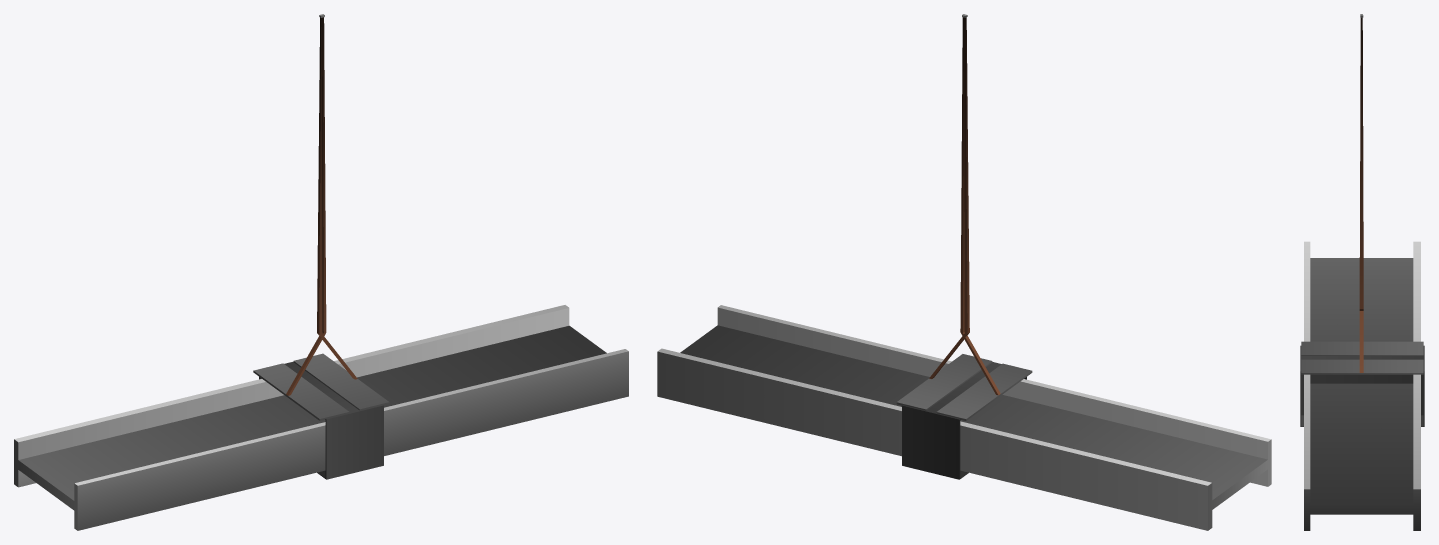
Rendered from MetalGrider.fbx.
3 views of the same model, side by side, from view 1: azimuth 30°, elevation 25°; view 2: azimuth 150°, elevation 25°; view 3: azimuth 270°, elevation 25° (orthographic). The views are drawn at different scales.
Visible parts, largest first — view 1: MetalGrider; view 2: MetalGrider; view 3: MetalGrider.
Boxes of the visible parts, bbox=[...] form: MetalGrider: bbox=[14, 14, 628, 530]; MetalGrider: bbox=[657, 14, 1271, 530]; MetalGrider: bbox=[1300, 14, 1424, 530].
Size of the model in its own units: 10 by 7.51 by 2.12.
1 material, 1 textured.
